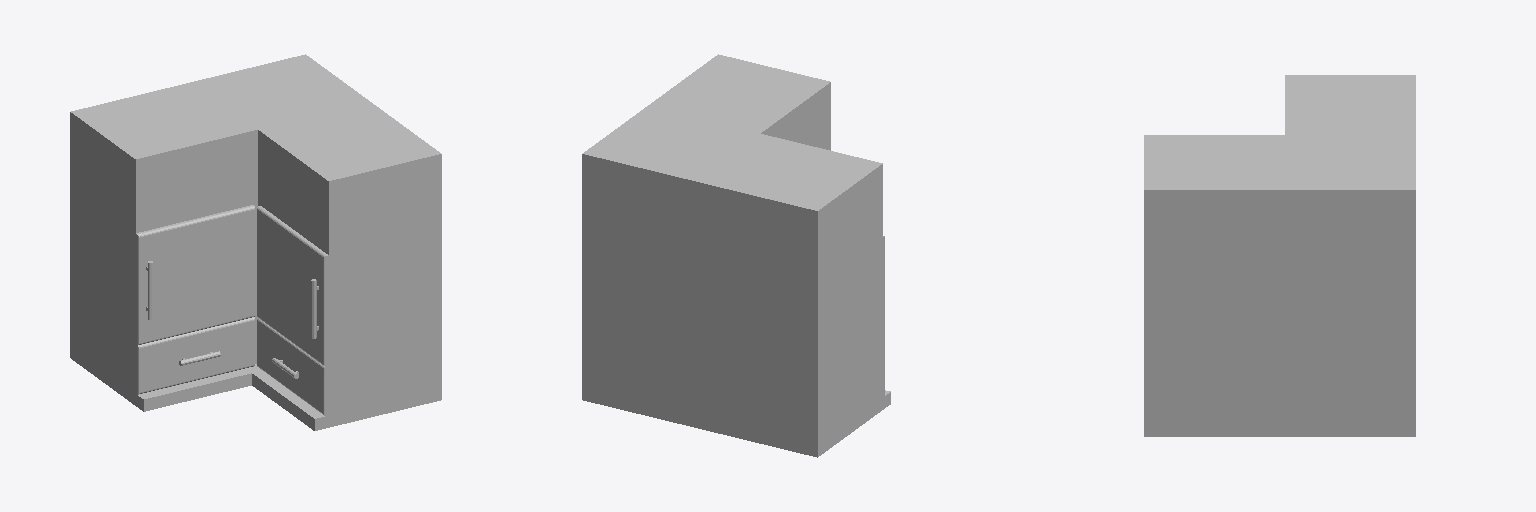
Rendered from kitchen_cabinet_corner.obj.
3 views of the same model, side by side, from view 1: azimuth 30°, elevation 25°; view 2: azimuth 150°, elevation 25°; view 3: azimuth 270°, elevation 25° (orthographic).
Parts seen in each view (by area): view 1: kitchen_cabinet_corner_Cube.006; view 2: kitchen_cabinet_corner_Cube.006; view 3: kitchen_cabinet_corner_Cube.006.
Part boxes in pixels (x1,y1,x2,y2): kitchen_cabinet_corner_Cube.006: (70,54,441,430); kitchen_cabinet_corner_Cube.006: (582,54,890,457); kitchen_cabinet_corner_Cube.006: (1144,75,1415,436).
Bounding box in the file's own units: 1 × 1 × 1.